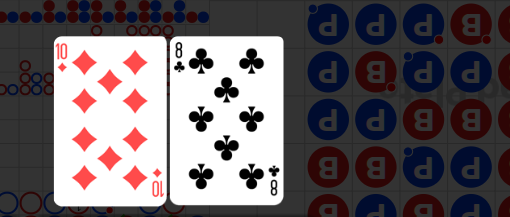10D: (56, 42, 69, 74)
8C: (266, 162, 280, 197)
